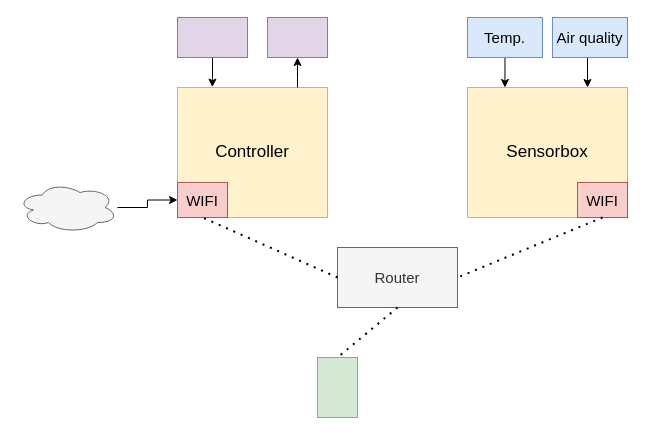
Some shapes in this 645 by 435 pixel diagram are drawn without their labels. The shapes that lost their labels are listed below. From the top down, each one's centre as x and y in pixels, then its label:
(x=212, y=37): Radiator
(x=297, y=37): Window
(x=67, y=207): Weather
(x=337, y=387): Mobil
